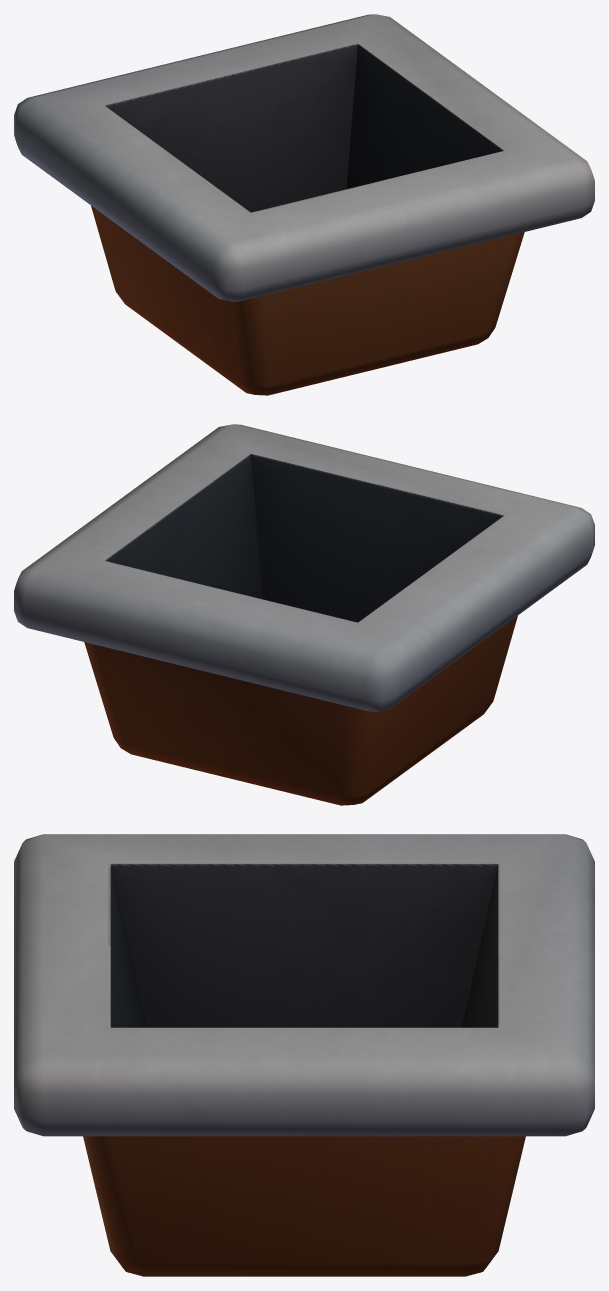
Rendered from TrashCounter.fbx.
3 views of the same model, one above another, from view 1: azimuth 30°, elevation 25°; view 2: azimuth 150°, elevation 25°; view 3: azimuth 270°, elevation 25° (orthographic). The views are drawn at different scales.
Parts seen in each view (by area): view 1: TrashCounter.Base; view 2: TrashCounter.Base; view 3: TrashCounter.Base.
Boxes of the visible parts, x1,y1,x2,y2 form: TrashCounter.Base: (14,14,594,395); TrashCounter.Base: (14,424,594,805); TrashCounter.Base: (14,834,594,1276).
Bounding box in the file's own units: 100 × 49.68 × 100.
